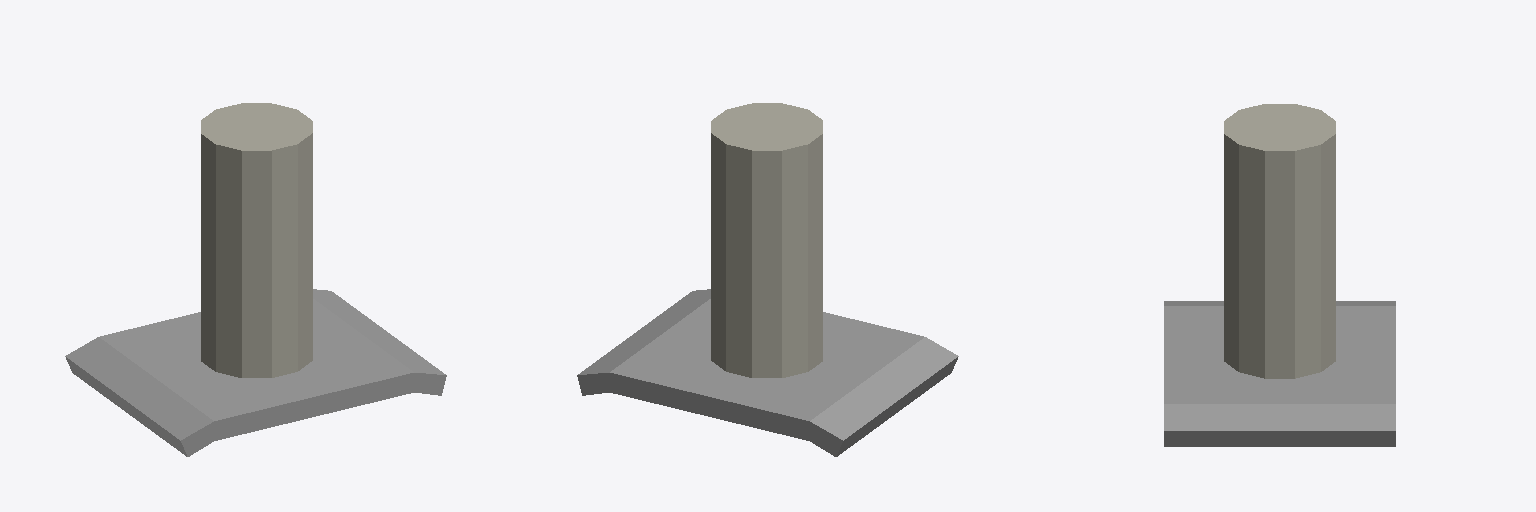
Rendered from capa_Scene.obj.
The picture shows the model from 3 angles: view 1: azimuth 30°, elevation 25°; view 2: azimuth 150°, elevation 25°; view 3: azimuth 270°, elevation 25°; orthographic projection.
Visible parts, largest first — view 1: Circle_Circle_17, 1; view 2: Circle_Circle_17, 1; view 3: Circle_Circle_17, 1.
Part boxes in pixels (bbox=[...]): Circle_Circle_17: bbox=[201, 103, 312, 377]; 1: bbox=[65, 289, 446, 456]; Circle_Circle_17: bbox=[711, 103, 822, 377]; 1: bbox=[577, 289, 958, 456]; Circle_Circle_17: bbox=[1224, 104, 1335, 378]; 1: bbox=[1164, 301, 1395, 446].
Bounding box in the file's own units: 2.66 × 2.46 × 2.